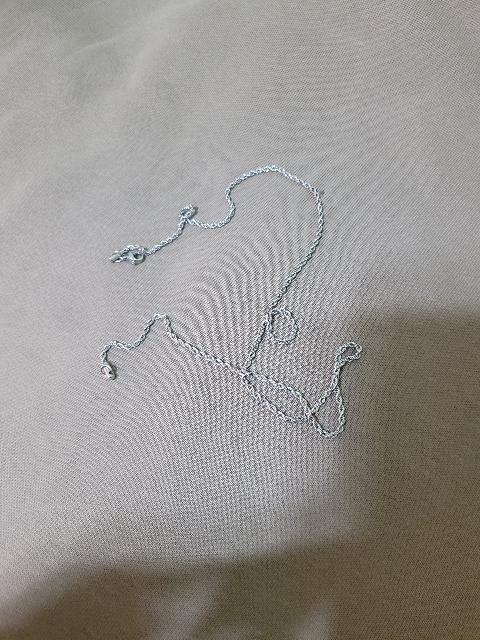Metal: (98, 163, 363, 448)
